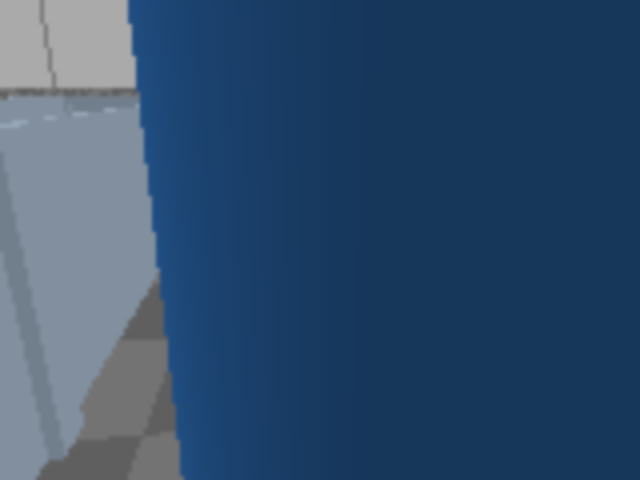goal_zone: (540, 166, 628, 177)
person: (165, 0, 638, 381)
